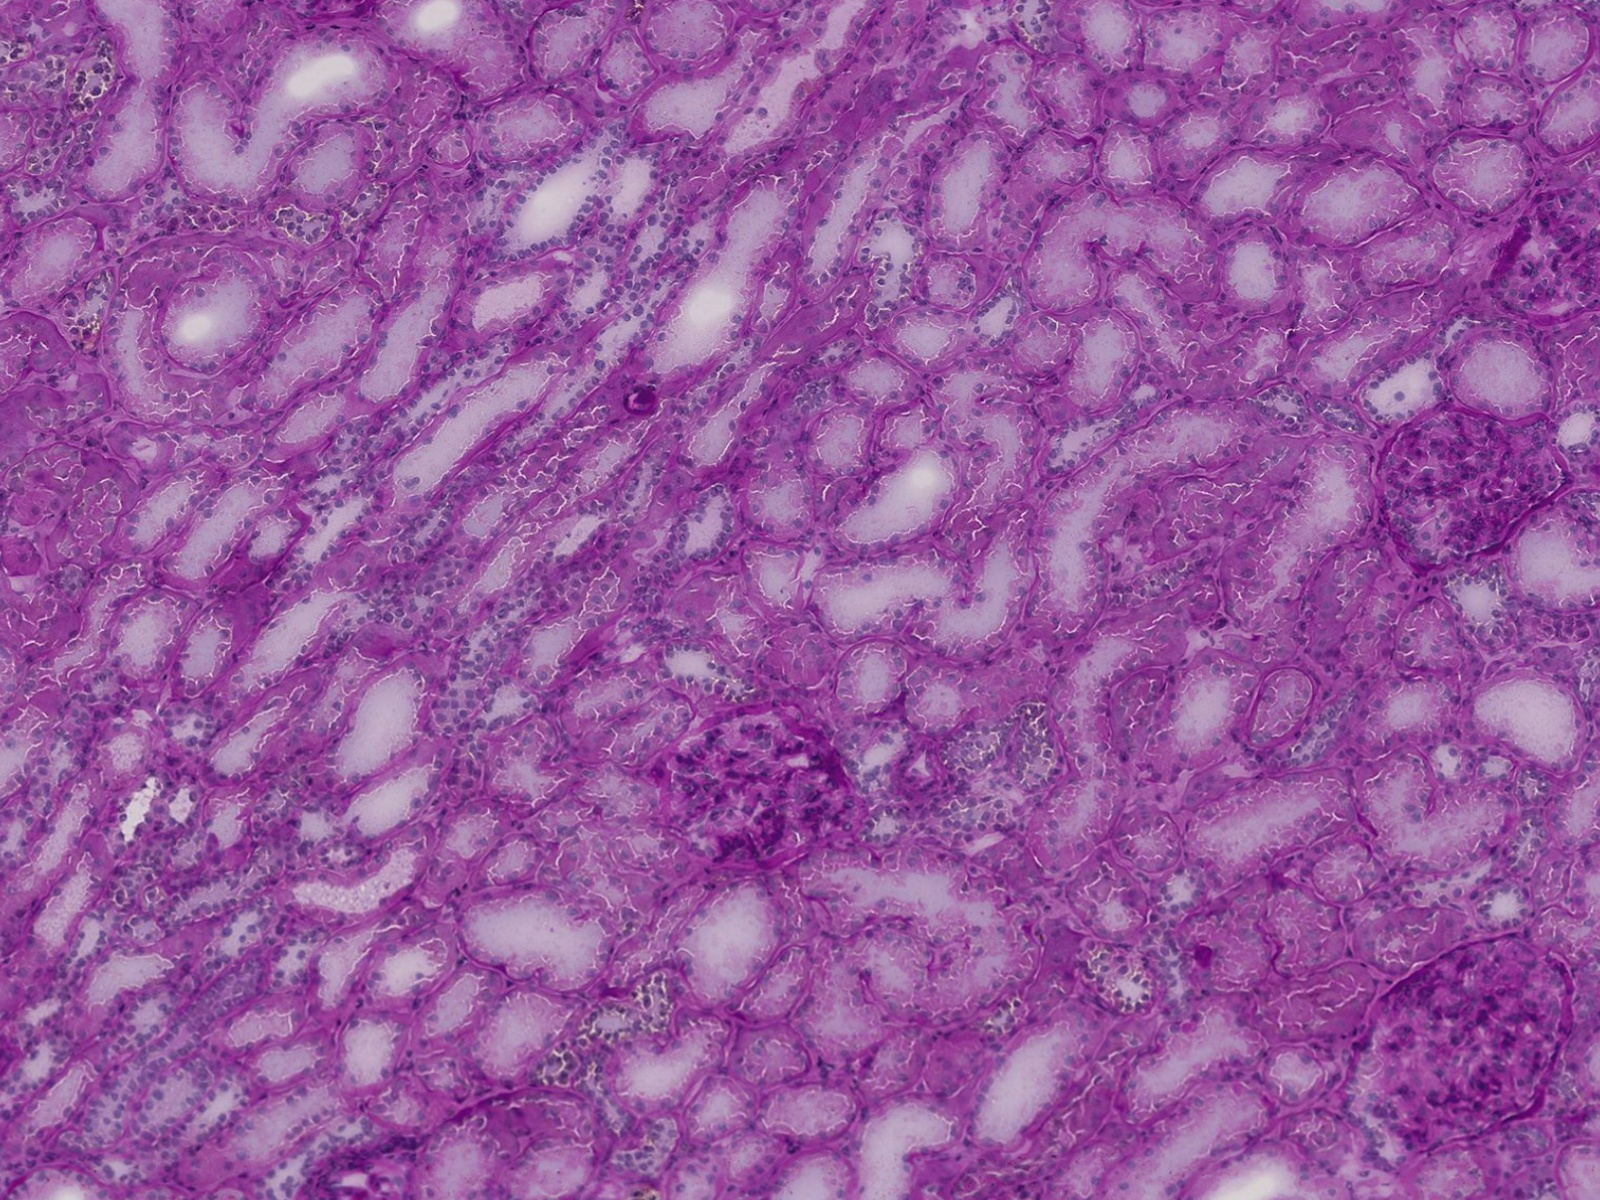Glomeruli: (1346, 926, 1577, 1146), (1364, 405, 1574, 576), (648, 708, 860, 867), (1487, 179, 1600, 316)
